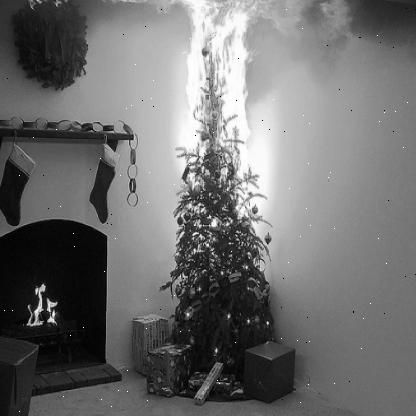fire: (171, 0, 263, 190)
smoke: (259, 4, 395, 44)
